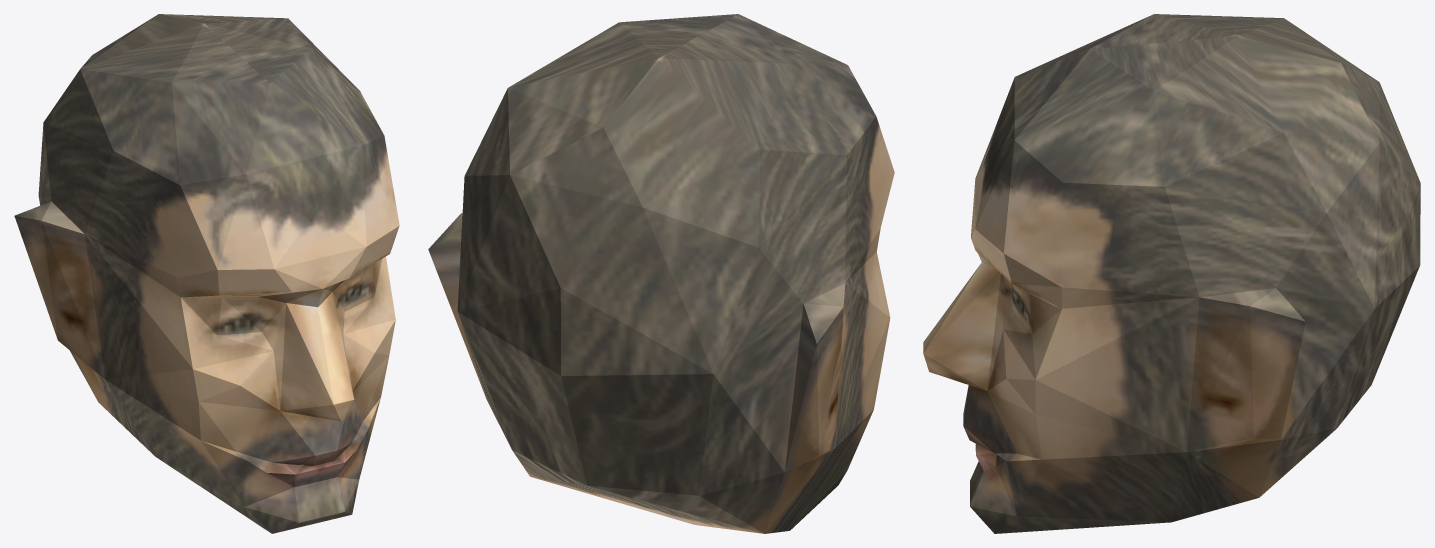
Rendered from HUM_HEAD_BALD-M9vzgTTf.glb.
3 renders of one model, left to right at view 1: azimuth 30°, elevation 25°; view 2: azimuth 150°, elevation 25°; view 3: azimuth 270°, elevation 25°, orthographic. The views are drawn at different scales.
Parts seen in each view (by area): view 1: zm_Morph; view 2: zm_Morph; view 3: zm_Morph.
Part boxes in pixels (x1=…): zm_Morph: x1=14, y1=14, x2=399, y2=533; zm_Morph: x1=428, y1=14, x2=894, y2=533; zm_Morph: x1=923, y1=14, x2=1420, y2=533.
Bounding box in the file's own units: 0.1971 × 0.2478 × 0.2346.
Materials: 3 (3 with a texture image).
